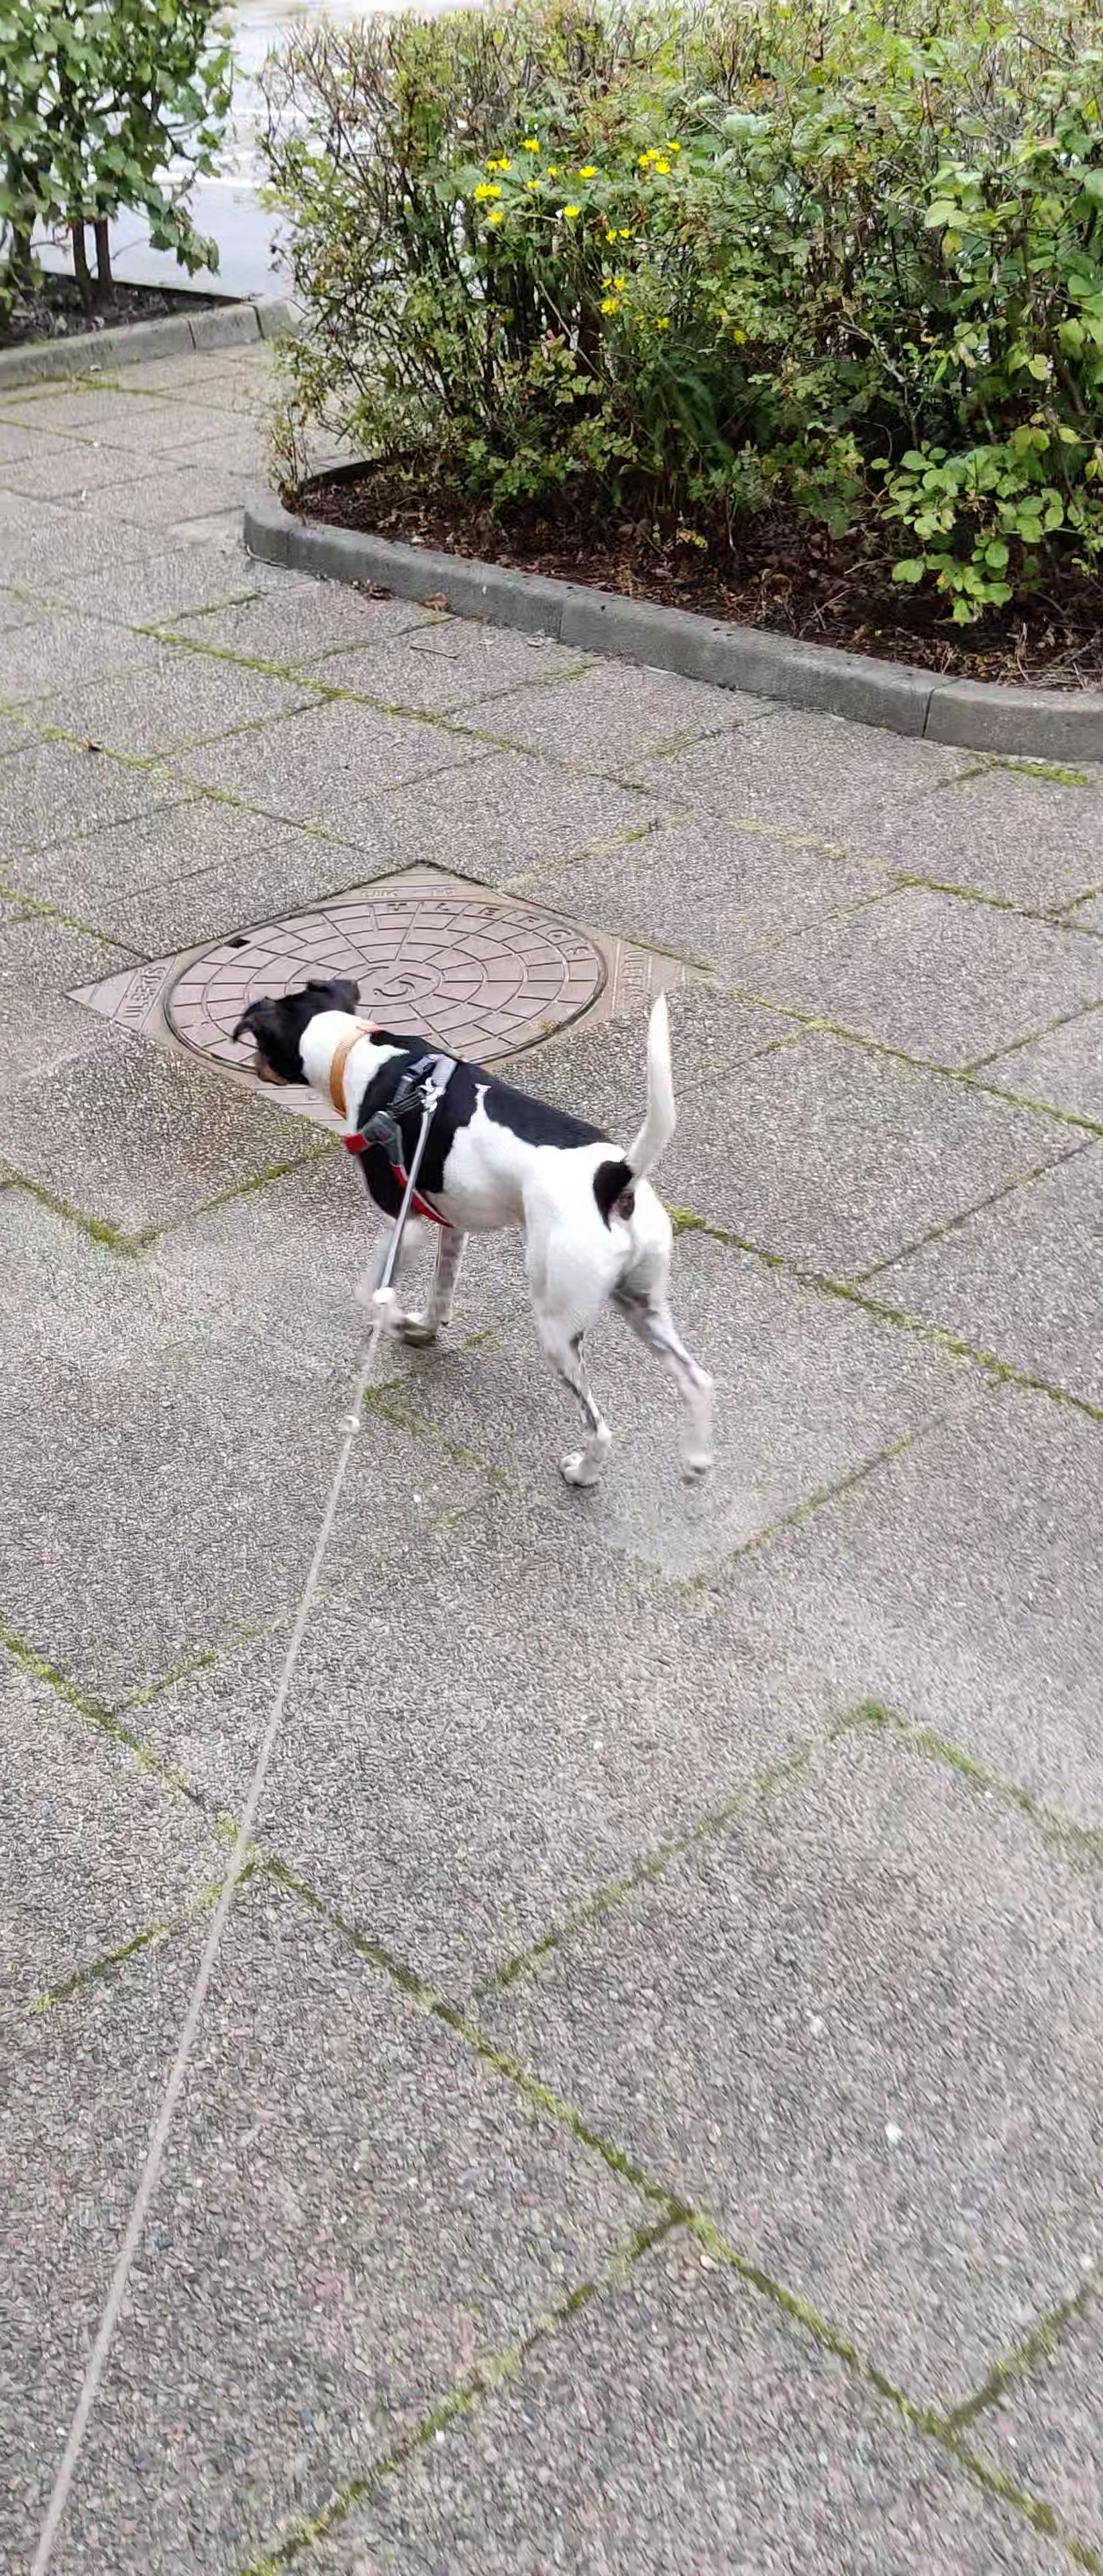Dog: (220, 951, 725, 1556)
